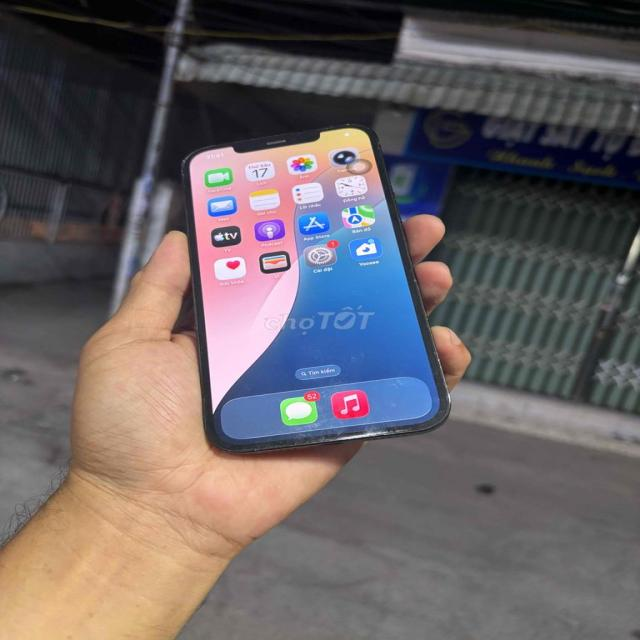gen_12_13: (177, 123, 450, 453)
